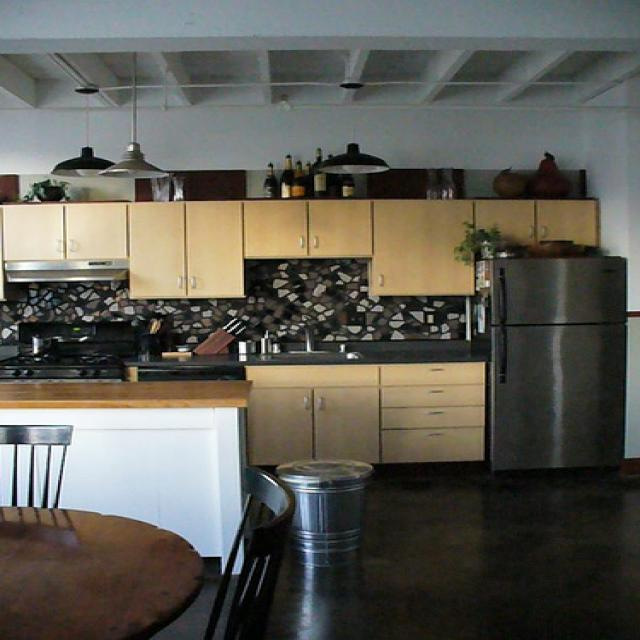chair: (204, 467, 296, 640), (0, 424, 72, 509)
dining table: (0, 507, 206, 640)
